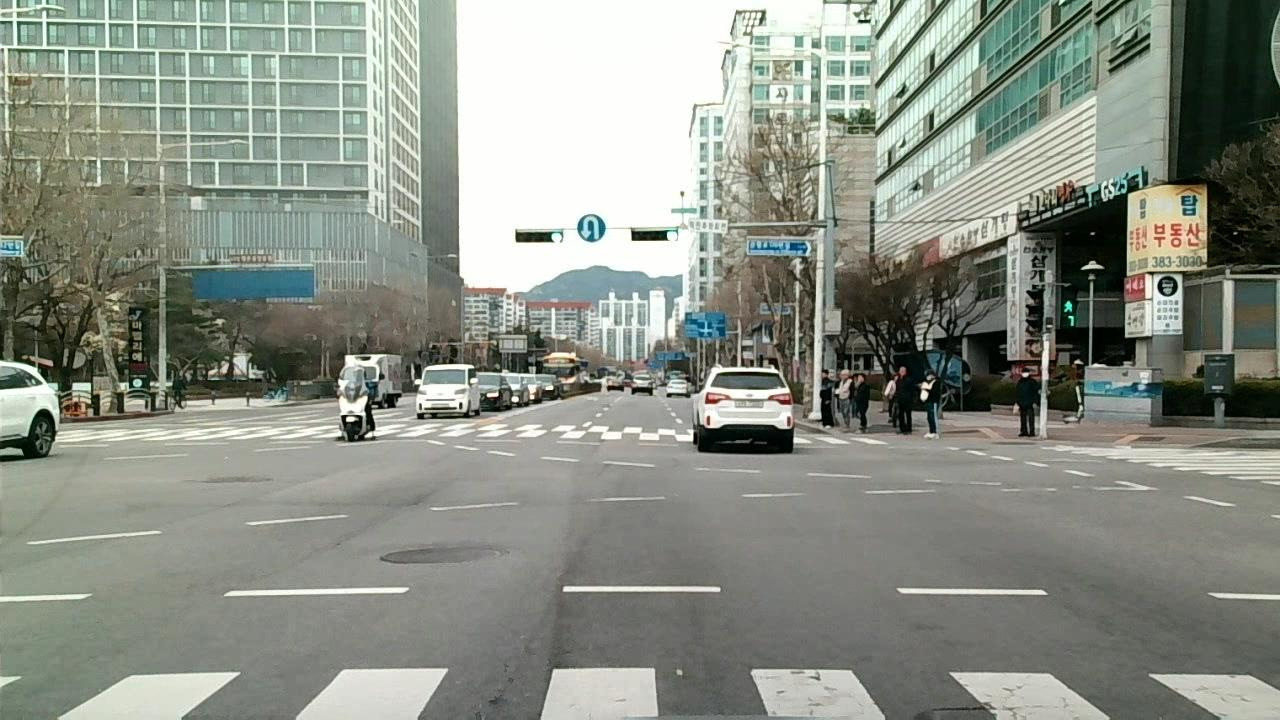banner: (920, 698, 1029, 714)
